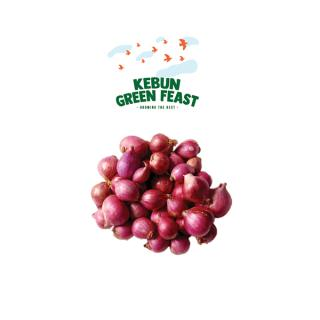Bawang Merah: (91, 134, 233, 256)
